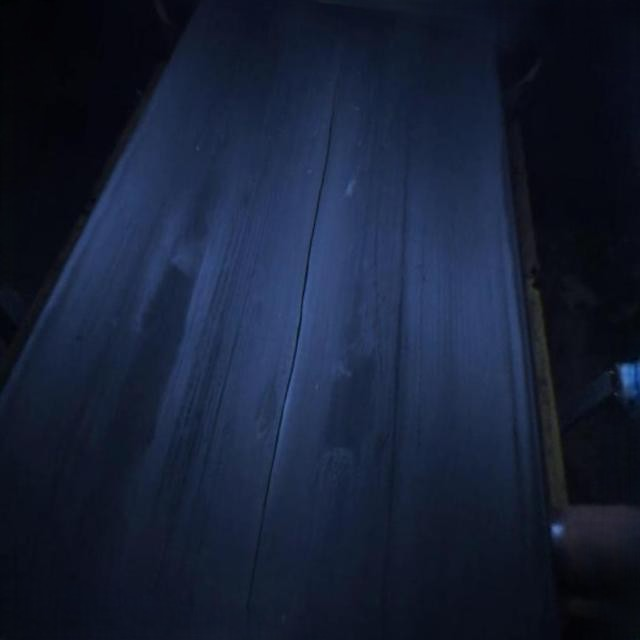Tear: (232, 65, 350, 634)
